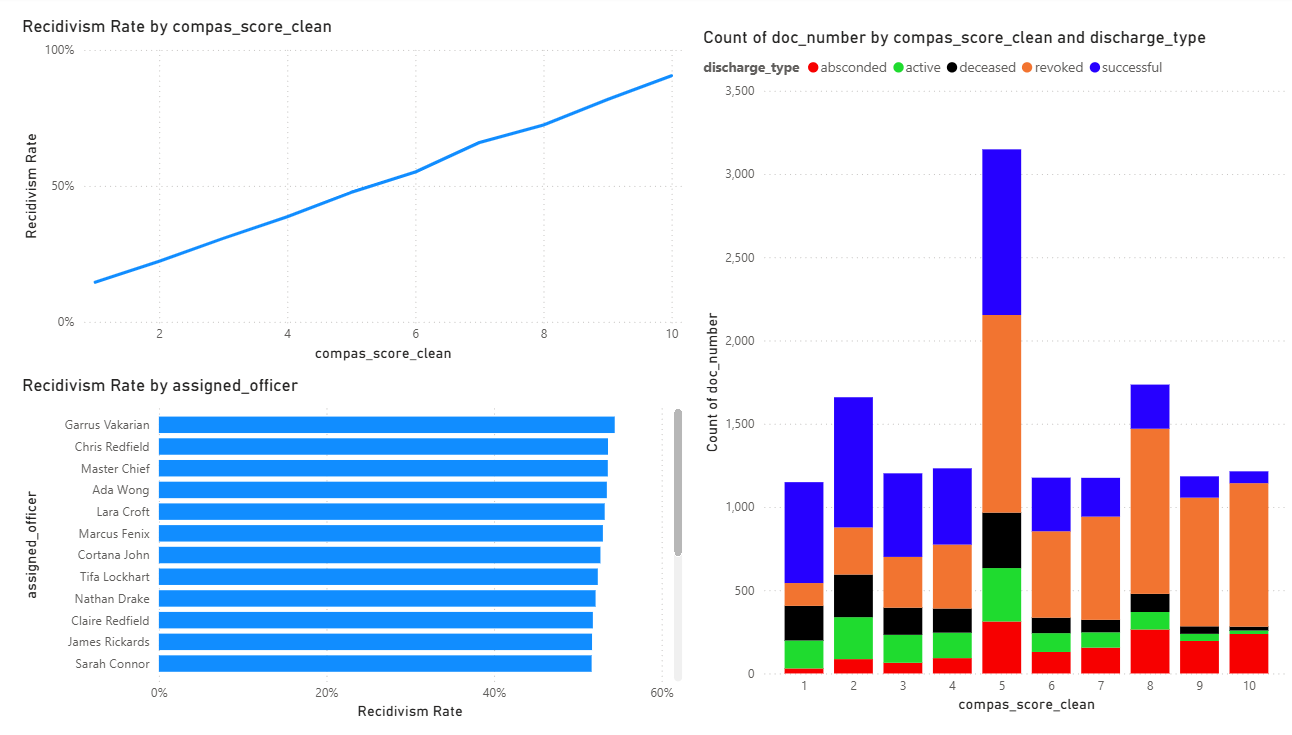

Layout of this report page (visuals, bound fields, positions):
{"tool":"powerbi","page":{"name":"Page 1","canvas":[1280,720],"ordinal":0},"visuals":[{"type":"lineChart","fields":{"Y":["view_probation_unique.Recidivism Rate"],"Category":["view_probation_unique.compas_score_clean"]},"box":[37.9,19.5,651.7,340.4],"z":0},{"type":"clusteredBarChart","fields":{"Category":["view_probation_unique.assigned_officer"],"Y":["view_probation_unique.Recidivism Rate"]},"box":[38,369,652,340],"z":1000},{"type":"lineStackedColumnComboChart","fields":{"Category":["view_probation_unique.compas_score_clean"],"Y":["view_probation_unique.doc_number"],"Series":["view_probation_unique.discharge_type"]},"box":[700.3,30.2,579.7,672.1],"z":2000}]}

Visuals, with their boxes in screenshot pixels (x1, y1, x2, y2), scaled from the page's 1280x720 canvas onto the 1292x735 screenshot:
lineChart - view_probation_unique.Recidivism Rate x view_probation_unique.compas_score_clean: bbox(38, 20, 696, 367)
clusteredBarChart - view_probation_unique.assigned_officer x view_probation_unique.Recidivism Rate: bbox(38, 377, 696, 724)
lineStackedColumnComboChart - view_probation_unique.compas_score_clean x view_probation_unique.doc_number: bbox(707, 31, 1291, 717)
